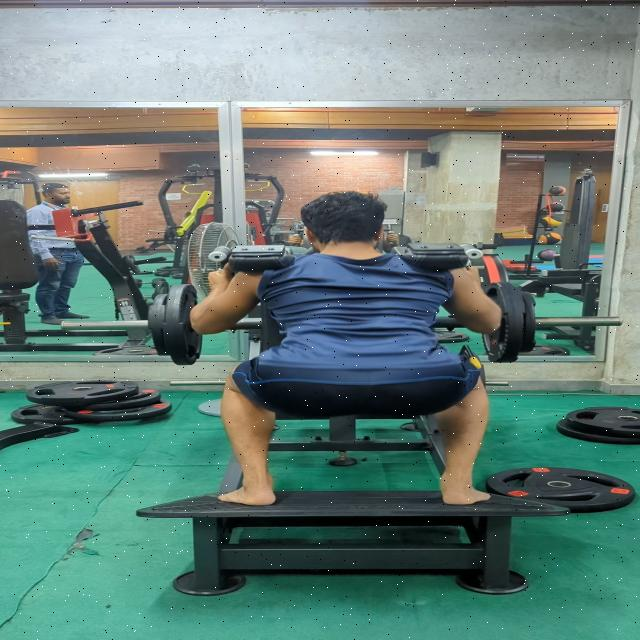Normal_SquatsWithBarbell: (170, 186, 517, 536)
